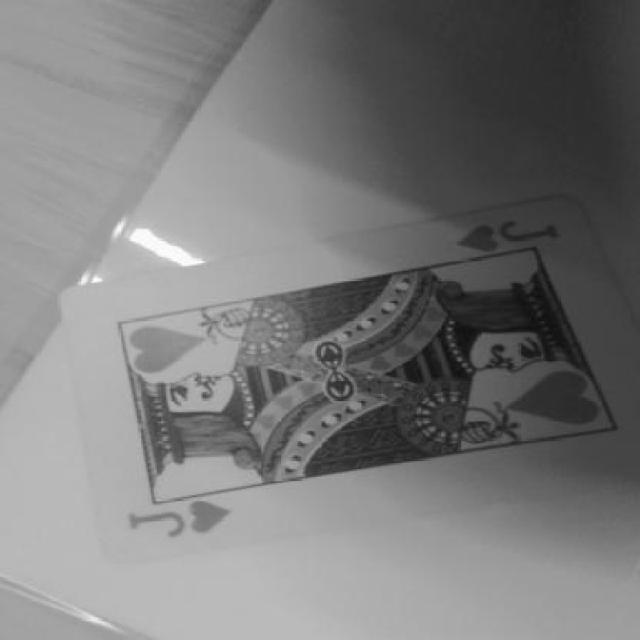JH: (119, 486, 252, 549), (450, 212, 579, 259)
